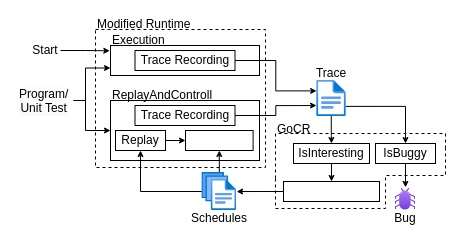
Some shapes in this 464 by 242 pixel diagram are drawn without their labels. The shapes that lost their labels are listed below. From the top down, each one's centre as x and y in pixels, then its label:
At pixel 218 140: "Schedule".
At pixel 331 191: "MutateSchedule".
